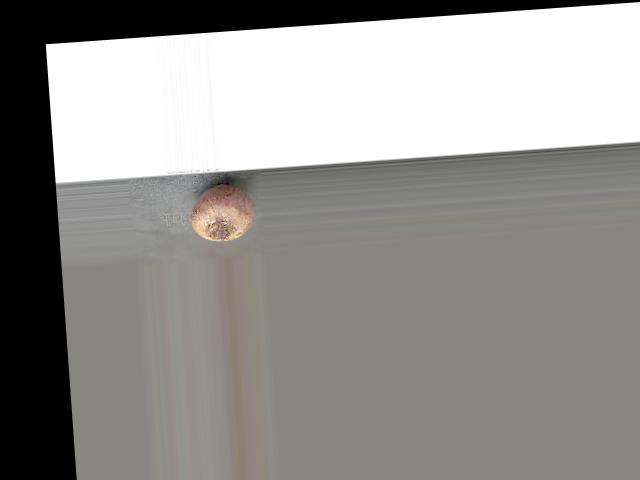beet: (189, 182, 258, 242)
